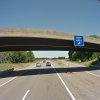Bridge: (4, 18, 99, 58)
